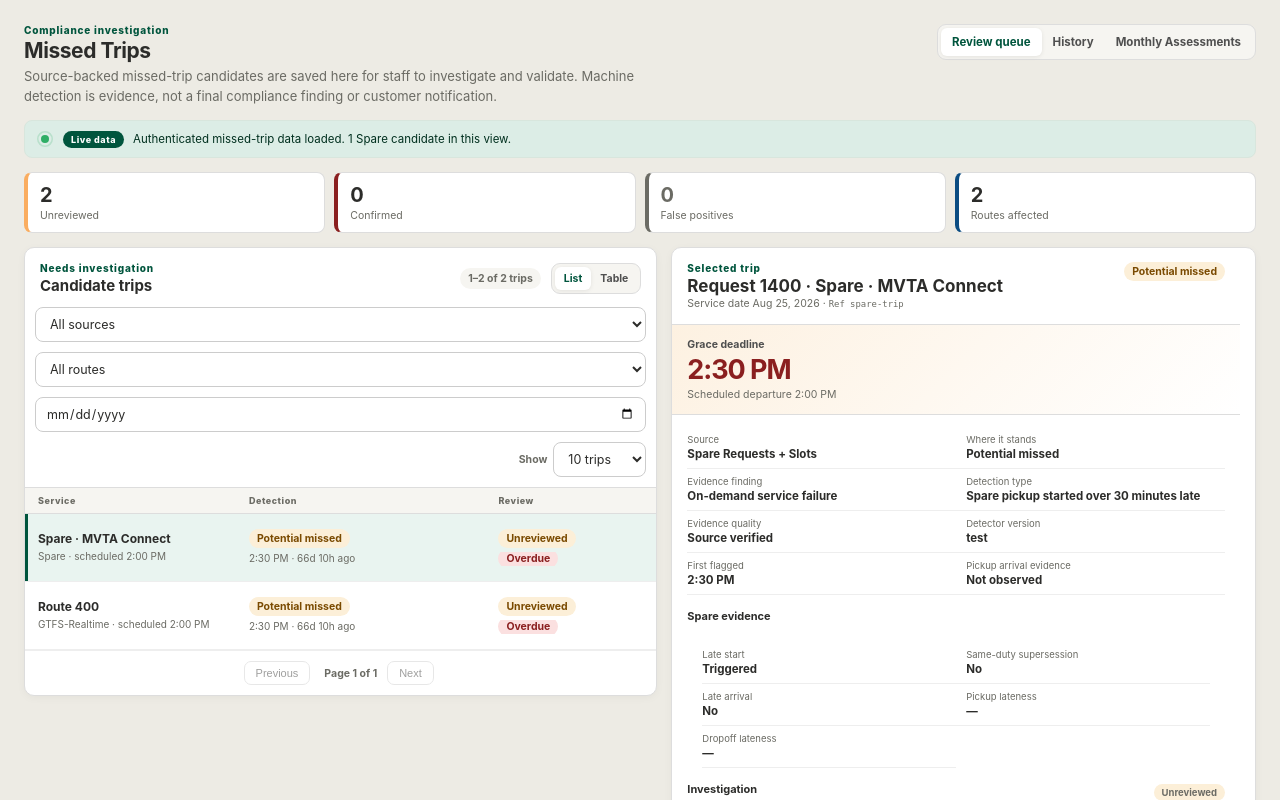
it: Missed Trips Spare source visibility › shows Spare feed status and isolates Spare candidates
Expected: the text "1 Spare candidate in this view." is shown, [133, 132, 511, 146]
Select "Spare" in the dropdown named "Filter by data source" at [341, 325], box [35, 307, 646, 342]
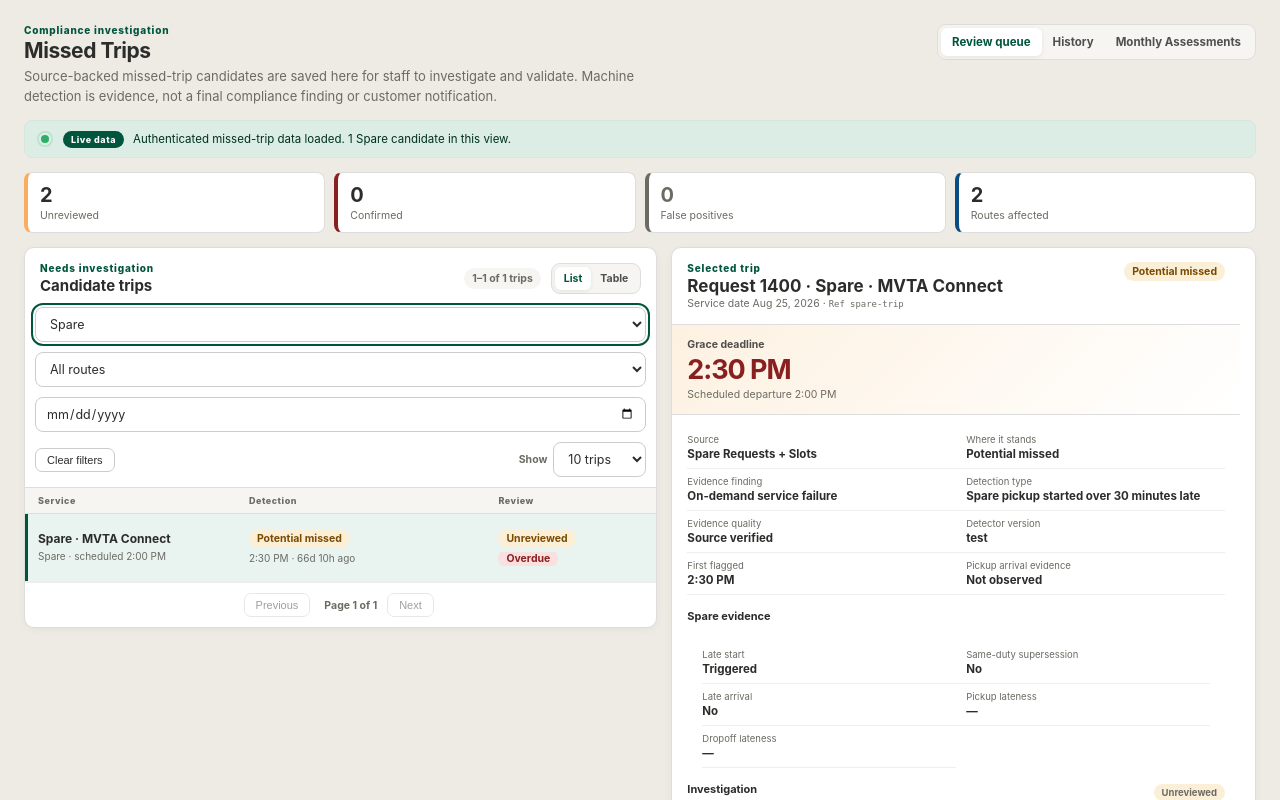
Expected: the text "Spare · MVTA Connect" is shown, [38, 531, 171, 546]
Expected: the button "Route 400" is gone
